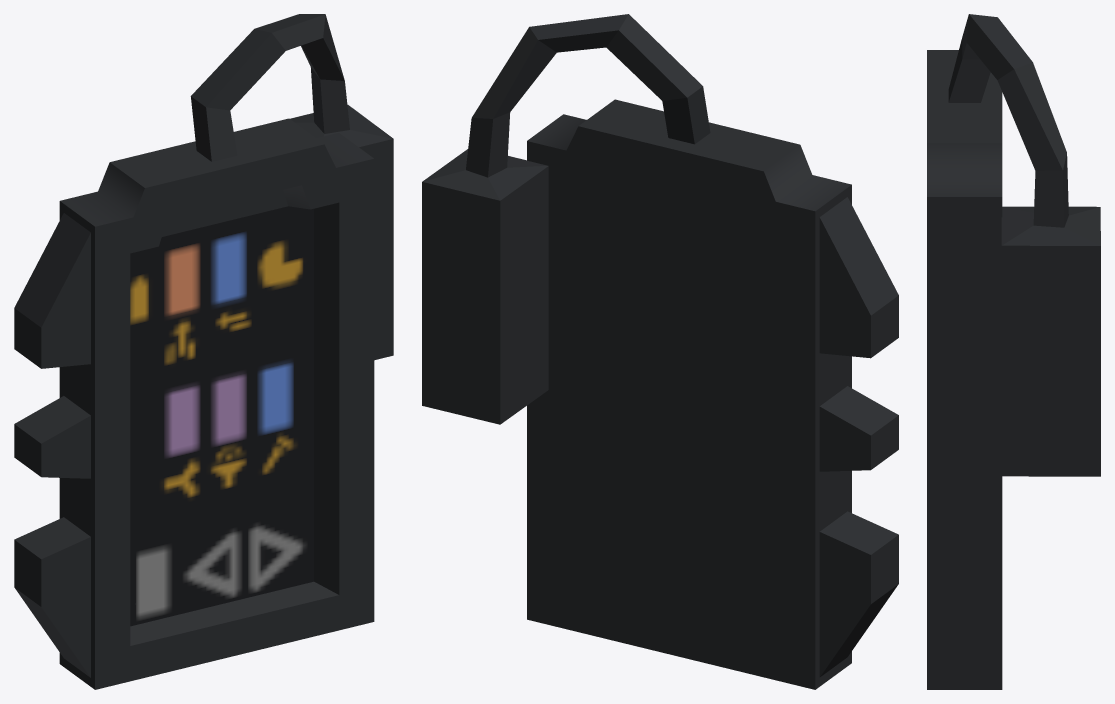
Rendered from SM_Chr_Attach_Bombsuit_Wrist_01.fbx.
The picture shows the model from 3 angles, left to right: view 1: azimuth 30°, elevation 25°; view 2: azimuth 150°, elevation 25°; view 3: azimuth 270°, elevation 25°; orthographic projection. The views are drawn at different scales.
Parts seen in each view (by area): view 1: SM_Chr_Attach_Bombsuit_Wrist_01; view 2: SM_Chr_Attach_Bombsuit_Wrist_01; view 3: SM_Chr_Attach_Bombsuit_Wrist_01.
Part boxes in pixels (bbox=[...]): SM_Chr_Attach_Bombsuit_Wrist_01: bbox=[14, 14, 393, 689]; SM_Chr_Attach_Bombsuit_Wrist_01: bbox=[422, 14, 898, 689]; SM_Chr_Attach_Bombsuit_Wrist_01: bbox=[927, 14, 1100, 689].
Size of the model in its own units: 15.96 by 23.62 by 5.88.
